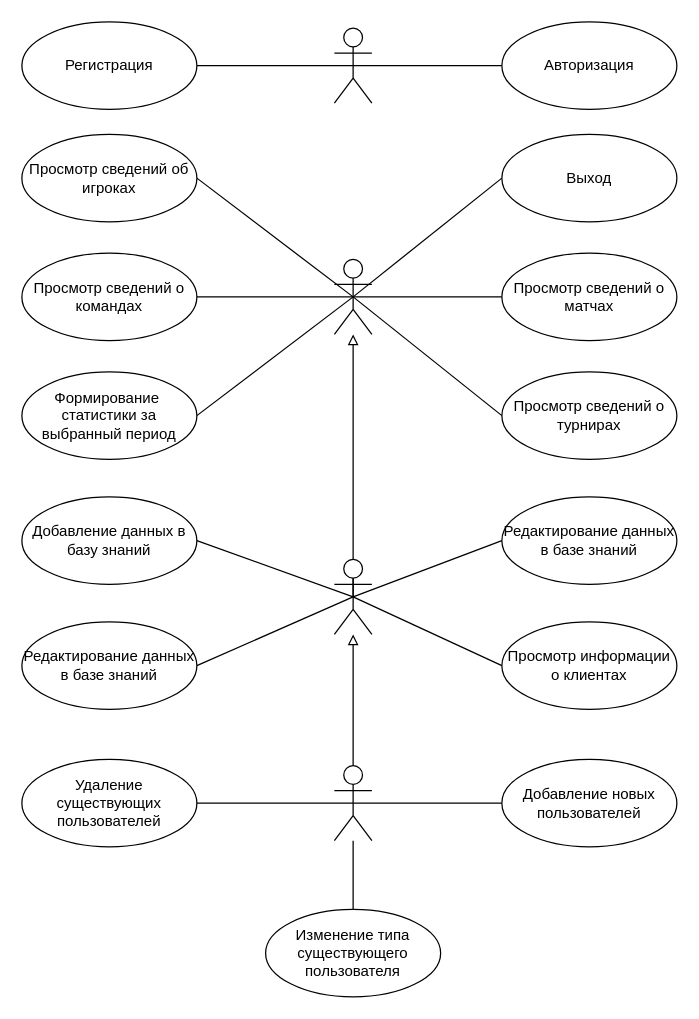
Some shapes in this 699 by 1019 pixel diagram are drawn without their labels. The centre of each missing label's shape, as x and y in pixels:
"Администратор" belongs at (352,802).
"Клиент" belongs at (352,296).
"Модератор" belongs at (352,596).
"Неавторизованный" belongs at (352,65).
